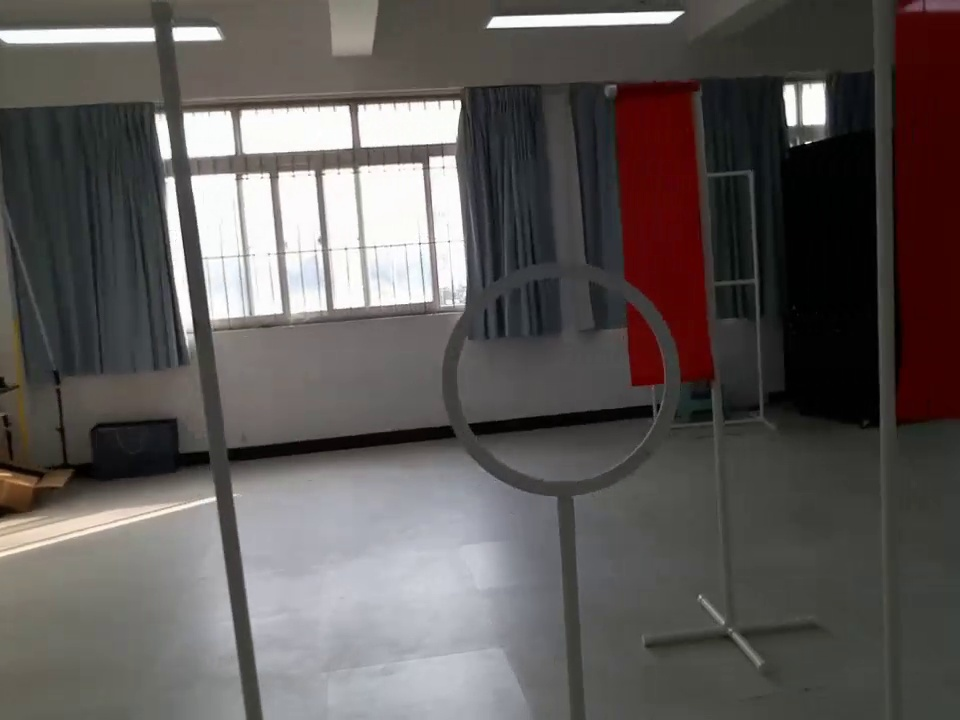gan: (147, 3, 265, 713)
qi: (437, 253, 678, 542), (872, 1, 960, 427), (599, 81, 722, 375)
quan: (435, 254, 679, 542)
